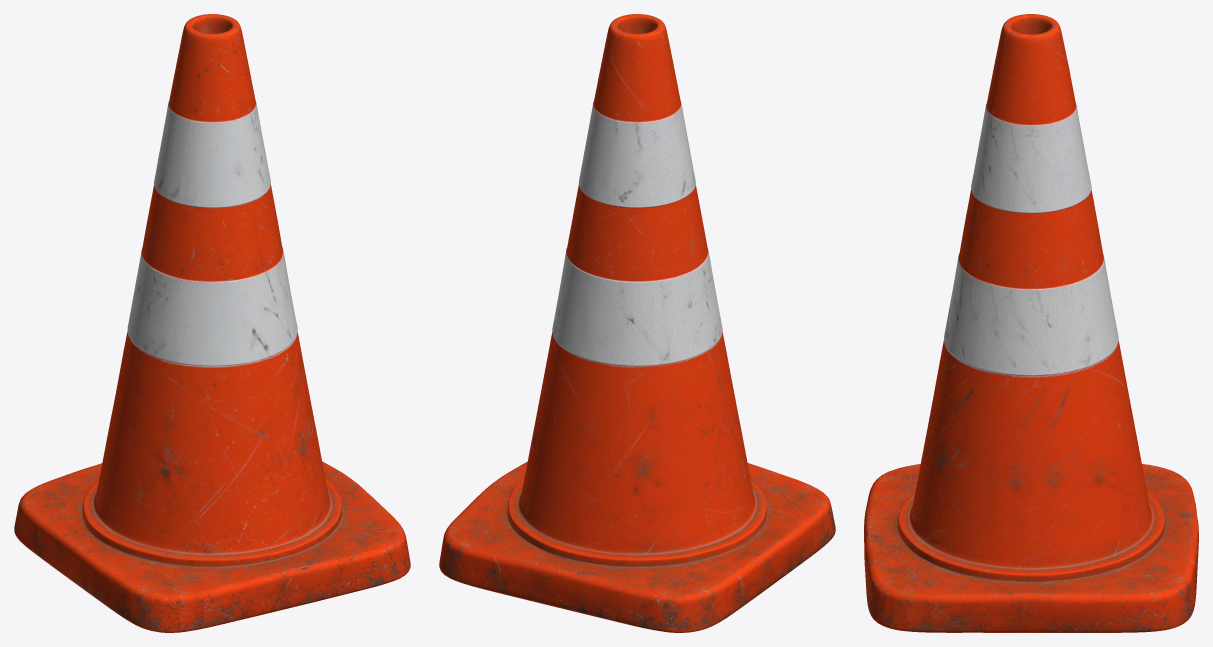
Rendered from Meshy_AI_traffic_cone_leitkege_1004105134_image-to-3d-texture.fbx.
3 views of the same model, side by side, from view 1: azimuth 30°, elevation 25°; view 2: azimuth 150°, elevation 25°; view 3: azimuth 270°, elevation 25° (orthographic). The views are drawn at different scales.
Visible parts, largest first — view 1: Mesh_0; view 2: Mesh_0; view 3: Mesh_0.
Part boxes in pixels (left/top/right/bottom): Mesh_0: left=14, top=14, right=410, bottom=632; Mesh_0: left=439, top=14, right=835, bottom=632; Mesh_0: left=864, top=14, right=1198, bottom=632.
Bounding box in the file's own units: 107 × 190 × 107.
1 material, 1 textured.
